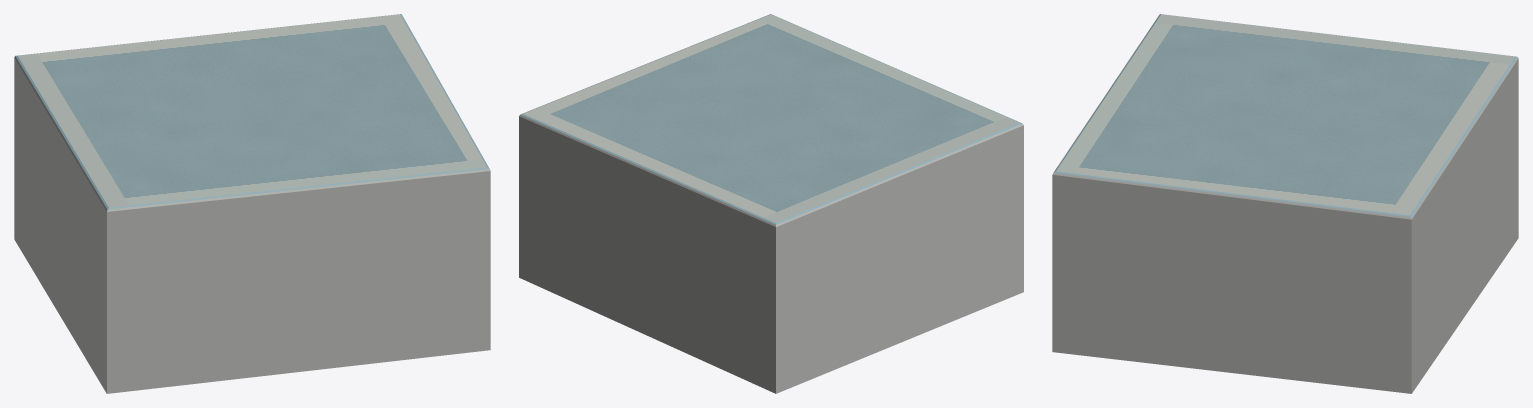
File: fragments.glb
3 renders of one model, left to right at view 1: azimuth 30°, elevation 25°; view 2: azimuth 150°, elevation 25°; view 3: azimuth 270°, elevation 25°, orthographic. The views are drawn at different scales.
Visible parts, largest first — view 1: SM_apple-annex_Fragment_003, SM_apple-annex_Fragment_008, SM_apple-annex_Fragment_022, SM_apple-annex_Fragment_045, SM_apple-annex_Fragment_057, SM_apple-annex_Fragment_031, SM_apple-annex_Fragment_021, SM_apple-annex_Fragment_043, SM_apple-annex_Fragment_013, SM_apple-annex_Fragment_032, SM_apple-annex_Fragment_009, SM_apple-annex_Fragment_017 (+26 smaller); view 2: SM_apple-annex_Fragment_009, SM_apple-annex_Fragment_011, SM_apple-annex_Fragment_017, SM_apple-annex_Fragment_015, SM_apple-annex_Fragment_056, SM_apple-annex_Fragment_051, SM_apple-annex_Fragment_062, SM_apple-annex_Fragment_050, SM_apple-annex_Fragment_042, SM_apple-annex_Fragment_002, SM_apple-annex_Fragment_008, SM_apple-annex_Fragment_035 (+25 smaller); view 3: SM_apple-annex_Fragment_007, SM_apple-annex_Fragment_012, SM_apple-annex_Fragment_037, SM_apple-annex_Fragment_036, SM_apple-annex_Fragment_060, SM_apple-annex_Fragment_026, SM_apple-annex_Fragment_019, SM_apple-annex_Fragment_032, SM_apple-annex_Fragment_009, SM_apple-annex_Fragment_042, SM_apple-annex_Fragment_028, SM_apple-annex_Fragment_056 (+24 smaller).
Part boxes in pixels (x1,y1,x2,y2): SM_apple-annex_Fragment_003: (152, 164, 306, 262); SM_apple-annex_Fragment_008: (89, 211, 174, 346); SM_apple-annex_Fragment_022: (161, 250, 270, 359); SM_apple-annex_Fragment_045: (335, 259, 440, 367); SM_apple-annex_Fragment_057: (296, 204, 412, 285); SM_apple-annex_Fragment_031: (288, 134, 407, 208); SM_apple-annex_Fragment_021: (264, 250, 353, 368); SM_apple-annex_Fragment_043: (80, 303, 205, 393); SM_apple-annex_Fragment_013: (404, 144, 490, 230); SM_apple-annex_Fragment_032: (426, 220, 490, 345); SM_apple-annex_Fragment_009: (14, 46, 106, 144); SM_apple-annex_Fragment_017: (72, 147, 163, 240); SM_apple-annex_Fragment_009: (711, 175, 841, 299); SM_apple-annex_Fragment_011: (712, 292, 844, 393); SM_apple-annex_Fragment_017: (908, 109, 1023, 196); SM_apple-annex_Fragment_015: (626, 154, 698, 282); SM_apple-annex_Fragment_056: (558, 108, 662, 191); SM_apple-annex_Fragment_051: (812, 154, 931, 221); SM_apple-annex_Fragment_062: (883, 246, 965, 334); SM_apple-annex_Fragment_050: (591, 174, 662, 296); SM_apple-annex_Fragment_042: (677, 155, 811, 225); SM_apple-annex_Fragment_002: (538, 168, 602, 274); SM_apple-annex_Fragment_008: (975, 125, 1023, 251); SM_apple-annex_Fragment_035: (791, 174, 856, 318); SM_apple-annex_Fragment_007: (1202, 175, 1331, 296); SM_apple-annex_Fragment_012: (1104, 223, 1232, 336); SM_apple-annex_Fragment_037: (1094, 139, 1202, 243); SM_apple-annex_Fragment_036: (1149, 287, 1274, 374); SM_apple-annex_Fragment_060: (1321, 228, 1428, 321); SM_apple-annex_Fragment_026: (1329, 305, 1430, 393); SM_apple-annex_Fragment_019: (1319, 180, 1428, 245); SM_apple-annex_Fragment_032: (1052, 223, 1115, 348); SM_apple-annex_Fragment_009: (1389, 45, 1518, 154); SM_apple-annex_Fragment_042: (1372, 68, 1492, 140); SM_apple-annex_Fragment_028: (1258, 268, 1348, 354); SM_apple-annex_Fragment_056: (1346, 140, 1457, 230).
Bounding box in the file's own units: 2.2 × 0.9178 × 2.12.
Materials: 4 (1 with a texture image).
